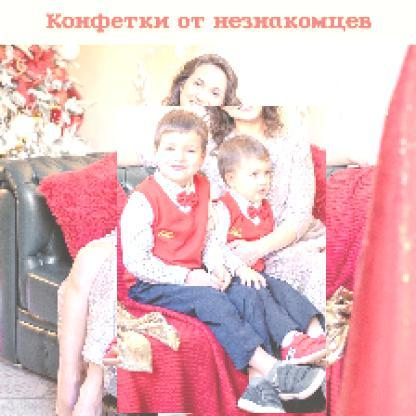child: (118, 107, 328, 415), (101, 135, 233, 367)
